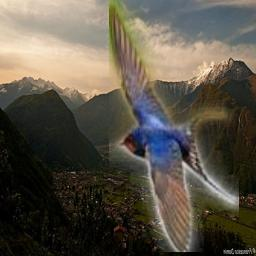Swallow: (109, 0, 239, 252)
